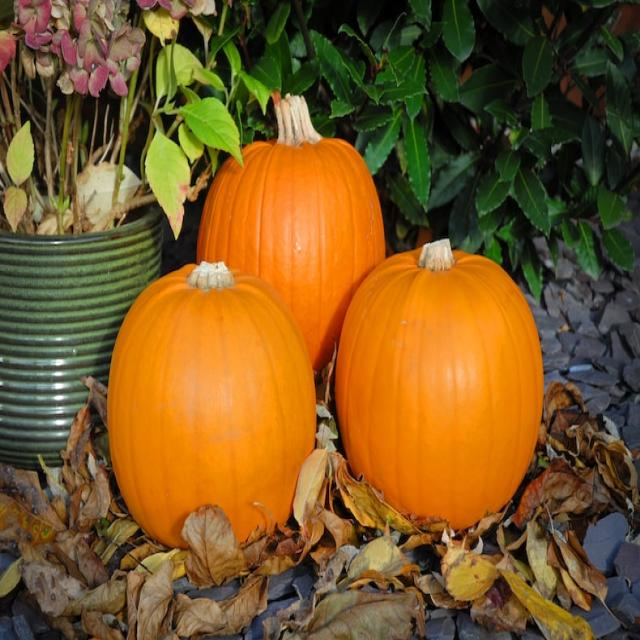pumpkin: (335, 239, 544, 530), (108, 261, 316, 546), (198, 91, 385, 369)
